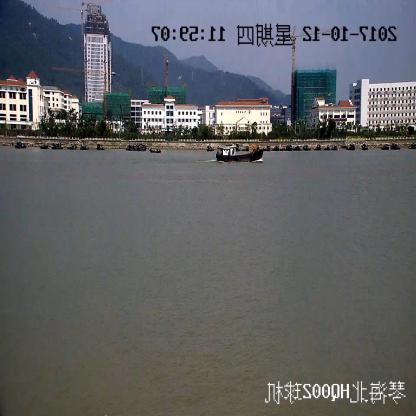Fishing Boat: (218, 148, 264, 162)
